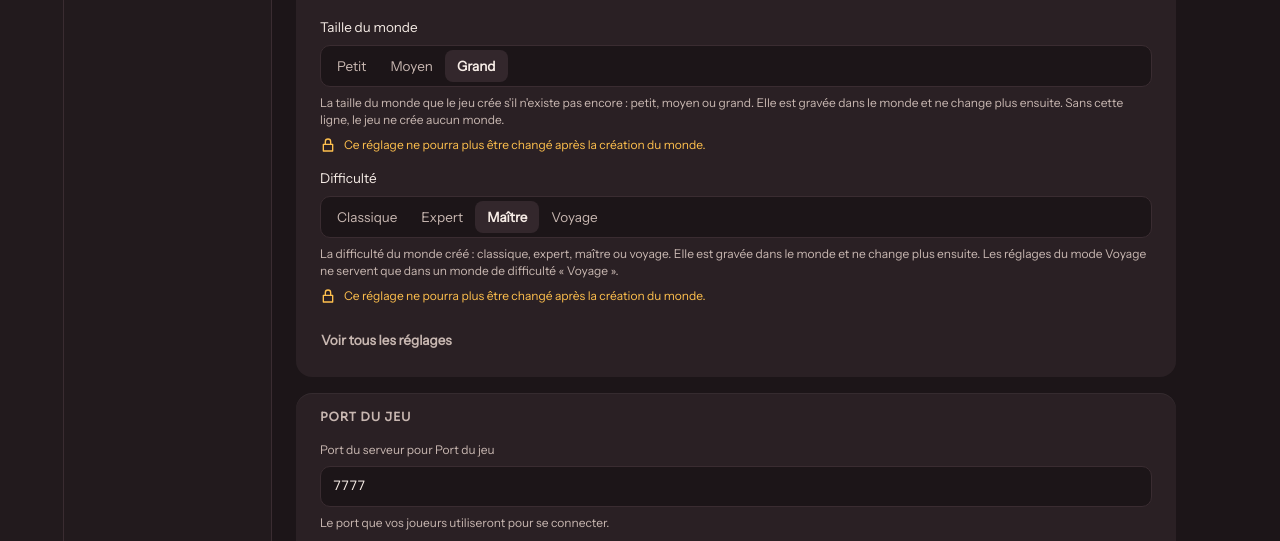
Scenario: les défauts de forme, jugés sur la fiche › refuse un port sous 1024 sans interroger l'agent
(page scrolled)
Replace the text in the field labelled "Port du serveur pour Port du jeu" with "80". click: (736, 487)
box: [321,467,1151,506]
Wait 450 ms
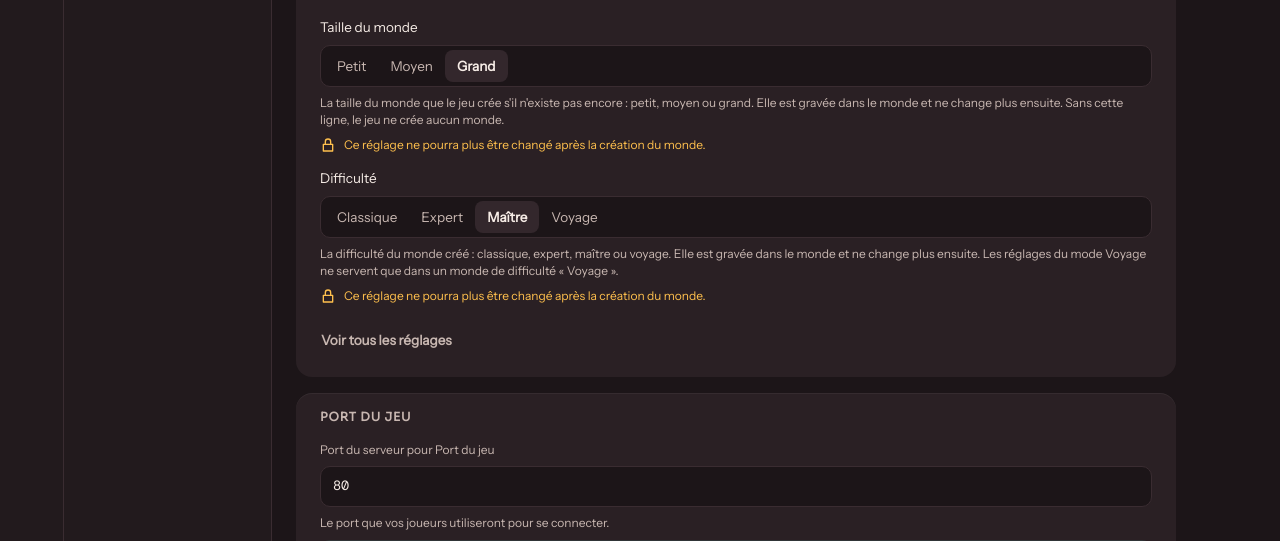
Leave the field labelled "Port du serveur pour Port du jeu", box [321,467,1151,506]
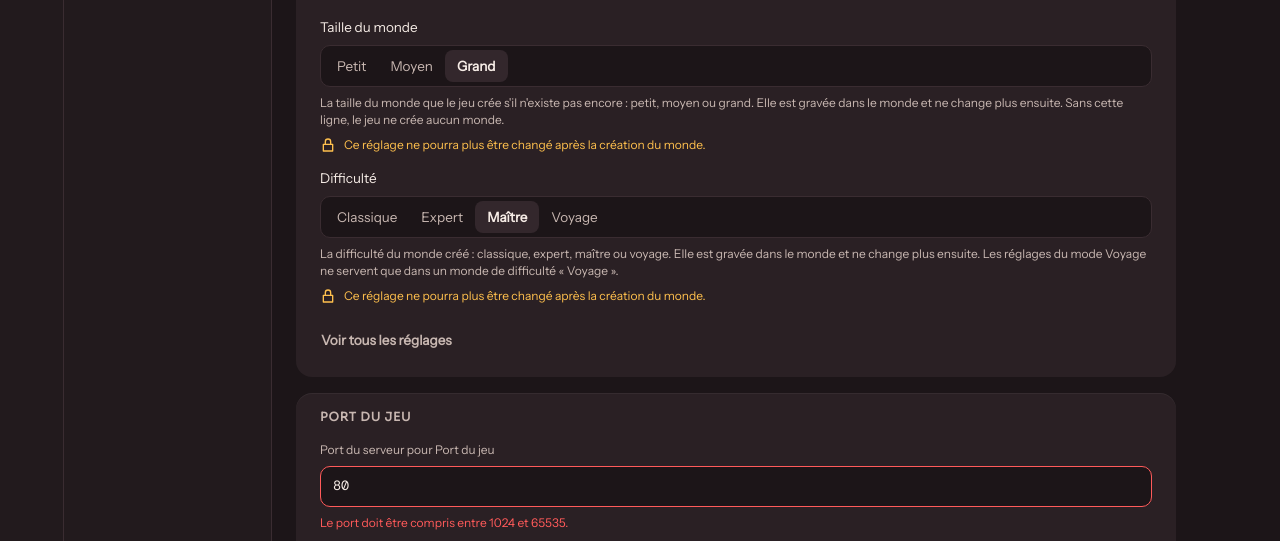
Expected: the element that starts with "Port du serveur pour Port du jeu" shows "compris entre 1024 et 65535", [320,515,568,530]
